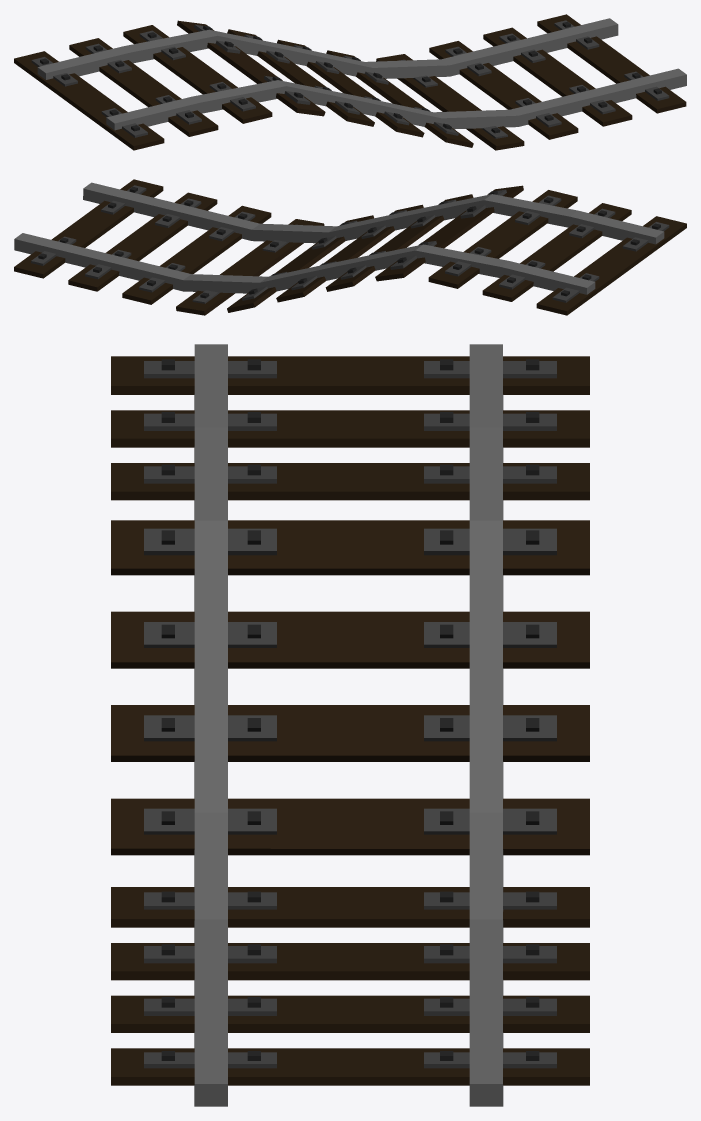
The model's file is rail_down.fbx.
3 views of the same model, one above another, from view 1: azimuth 30°, elevation 25°; view 2: azimuth 150°, elevation 25°; view 3: azimuth 270°, elevation 25° (orthographic). The views are drawn at different scales.
Parts seen in each view (by area): view 1: Plane.012; view 2: Plane.012; view 3: Plane.012.
Part boxes in pixels (x1,y1,x2,y2): Plane.012: [14, 14, 686, 150]; Plane.012: [14, 179, 686, 315]; Plane.012: [111, 344, 589, 1106].
Size of the model in its own units: 6.57 by 1.13 by 2.38.
